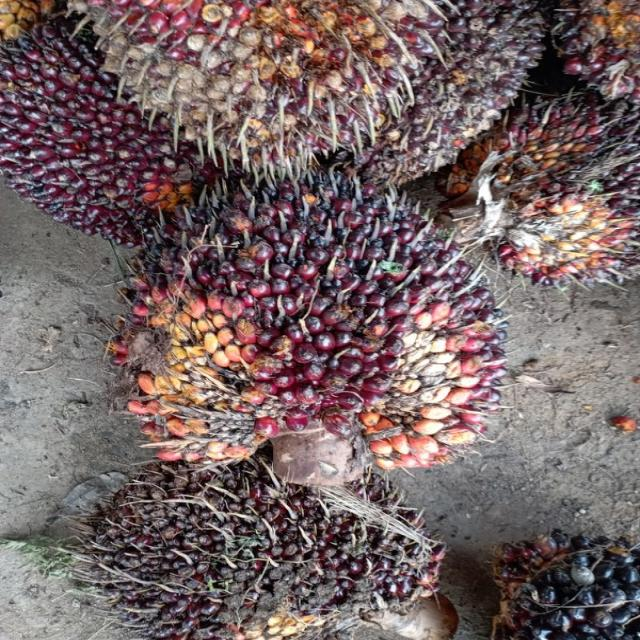fraksi 00: (472, 84, 640, 290)
fraksi 1: (119, 171, 507, 462), (81, 459, 454, 640), (78, 0, 448, 171), (0, 21, 195, 236)
